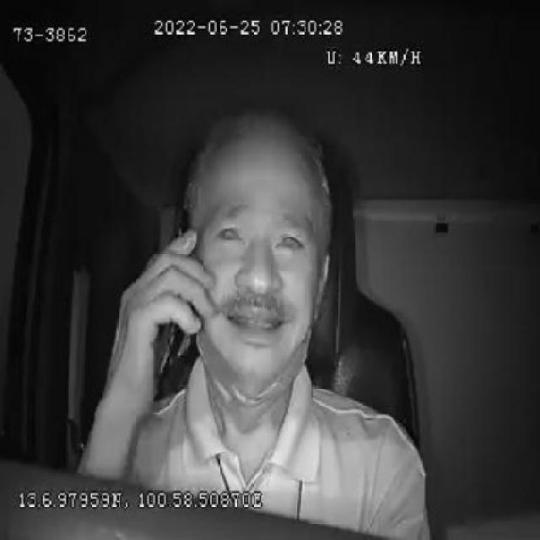phone: (150, 206, 195, 390)
